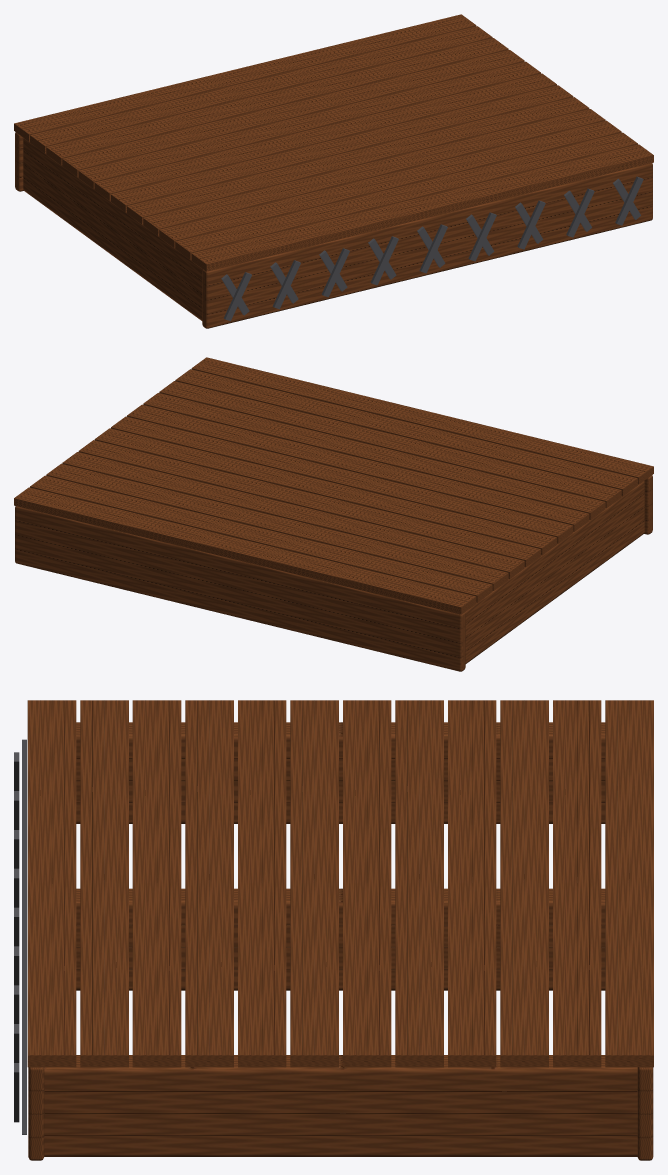
File: halloween-slasher-street-porch-deck-section-bcdeb474__27272.glb
3 views of the same model, one above another, from view 1: azimuth 30°, elevation 25°; view 2: azimuth 150°, elevation 25°; view 3: azimuth 270°, elevation 25° (orthographic). The views are drawn at different scales.
Visible parts, largest first — view 1: porch-deck-section; view 2: porch-deck-section; view 3: porch-deck-section.
Part boxes in pixels (box(x1,y1,x2,y2)): porch-deck-section: box(14, 14, 653, 328); porch-deck-section: box(14, 357, 653, 671); porch-deck-section: box(14, 700, 653, 1160).
Bounding box in the file's own units: 3.2 × 0.45 × 2.44.
Materials: 2 (1 with a texture image).
